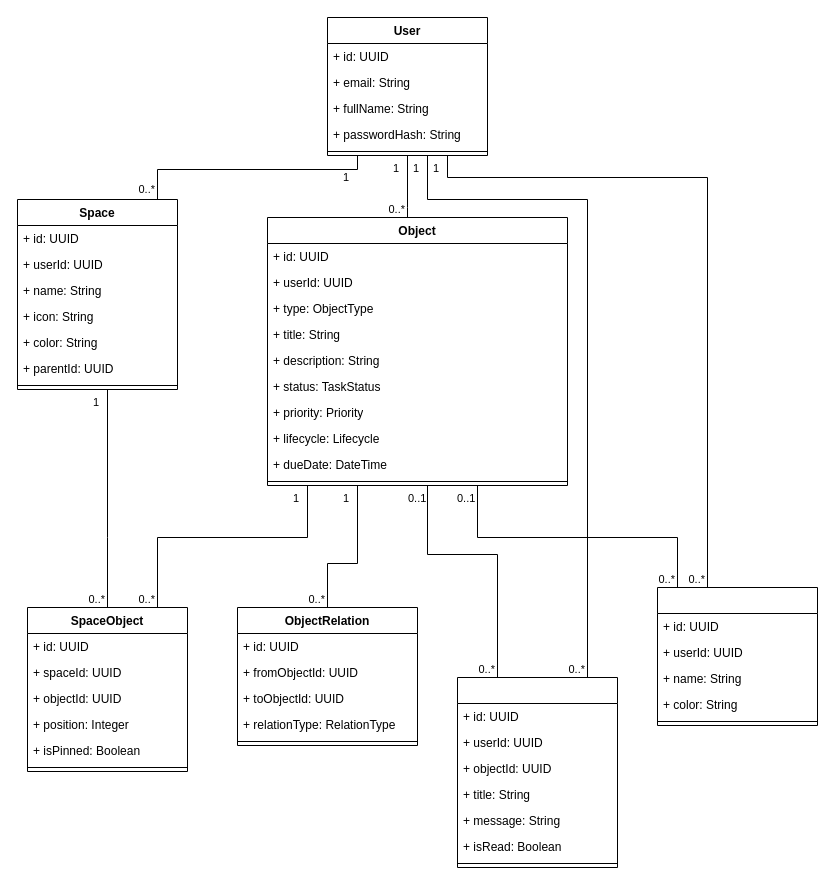
This 835x885 diagram has some shape labels left out. The box of each missing label's shape, as (x1, y1, x2, y2) in pixels:
Notification: (456, 676, 618, 868)
Tag: (656, 586, 818, 726)
